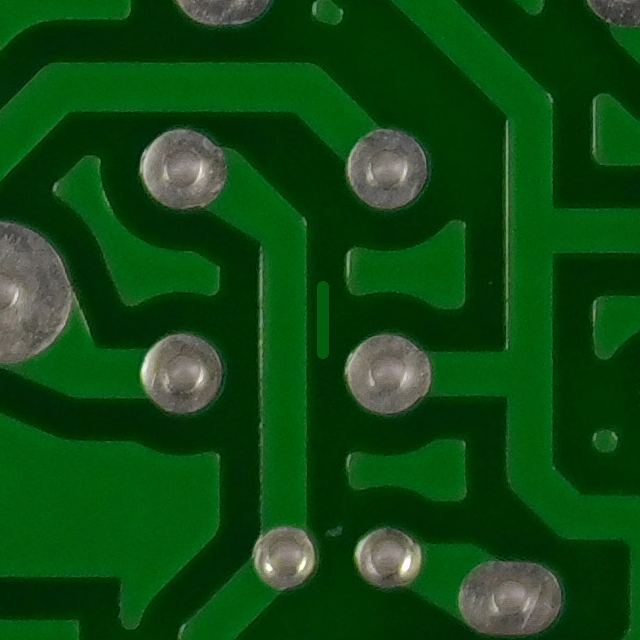spurious_copper: (296, 265, 345, 376)
